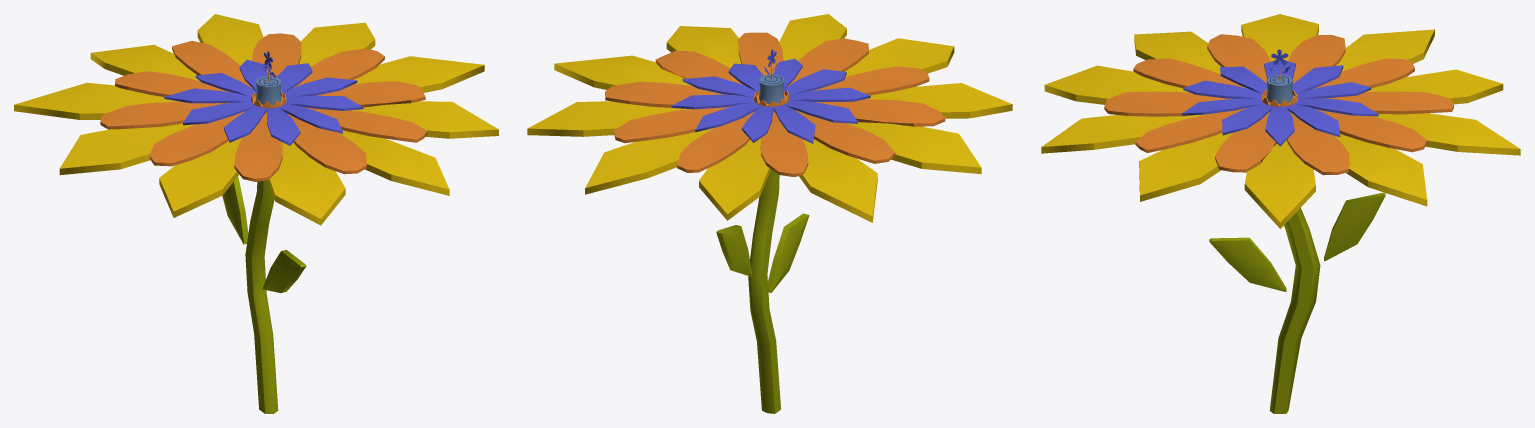
Rendered from Planta Aberta.fbx.
The picture shows the model from 3 angles, left to right: view 1: azimuth 30°, elevation 25°; view 2: azimuth 150°, elevation 25°; view 3: azimuth 270°, elevation 25°; orthographic projection.
Parts seen in each view (by area): view 1: pCylinder8, pCylinder9, pCylinder10, pCube7, pCube9, pCube8, polySurface4; view 2: pCylinder8, pCylinder9, pCylinder10, pCube7, pCube9, pCube8, polySurface4; view 3: pCylinder8, pCylinder9, pCylinder10, pCube7, pCube9, pCube8, polySurface4.
Boxes of the visible parts, x1,y1,x2,y2 form: pCylinder8: (14,14,498,225); pCylinder9: (100,33,427,181); pCylinder10: (164,59,363,145); pCube7: (245,180,278,413); pCube9: (262,249,306,292); pCube8: (222,177,248,244); polySurface4: (256,76,281,105); pCylinder8: (527,14,1012,222); pCylinder9: (605,32,945,176); pCylinder10: (671,58,870,143); pCube7: (748,169,780,413); pCube9: (768,213,809,292); pCube8: (716,225,752,276); polySurface4: (759,74,784,103); pCylinder8: (1041,14,1520,228); pCylinder9: (1104,34,1453,175); pCylinder10: (1182,60,1378,146); pCube7: (1269,208,1320,413); pCube9: (1209,237,1286,291); pCube8: (1324,192,1385,260); polySurface4: (1266,75,1293,103).
Size of the model in its own units: 607 by 490 by 589.
